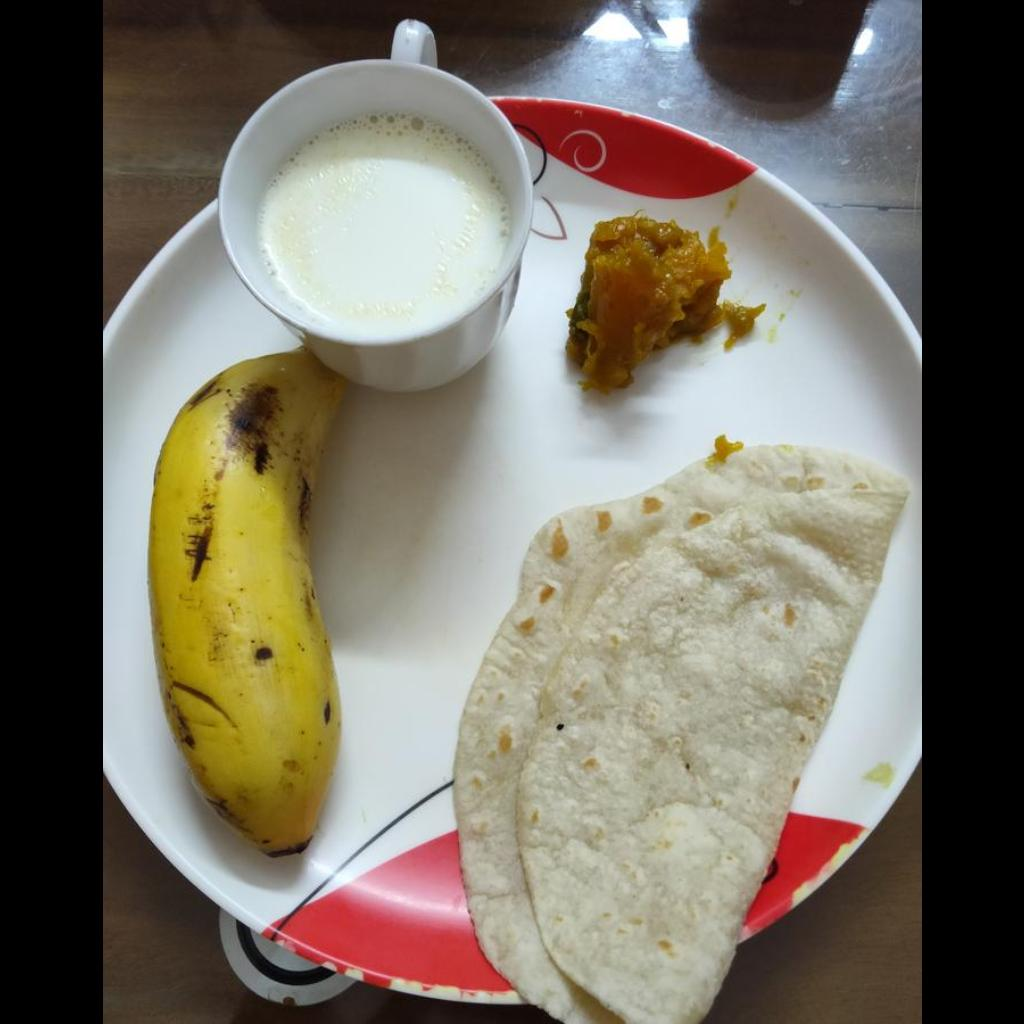achar: (563, 219, 761, 391)
banana: (148, 348, 346, 858)
milk: (255, 120, 505, 331)
ruti: (451, 442, 907, 1022)
